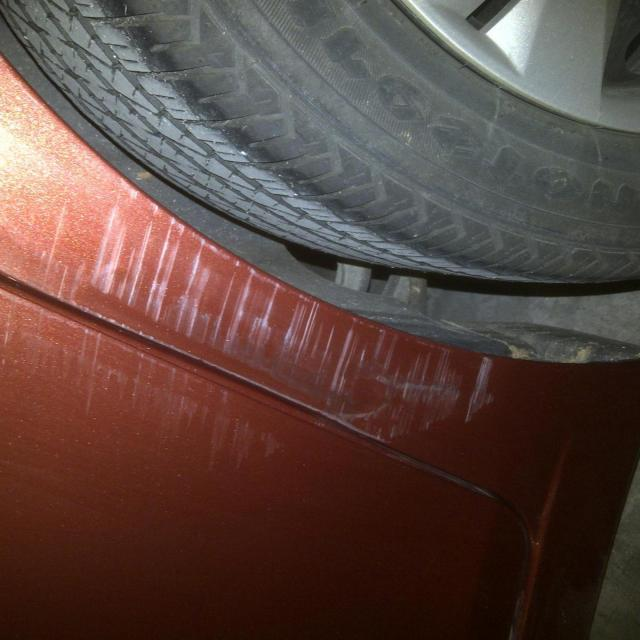scratch: (24, 157, 488, 453)
